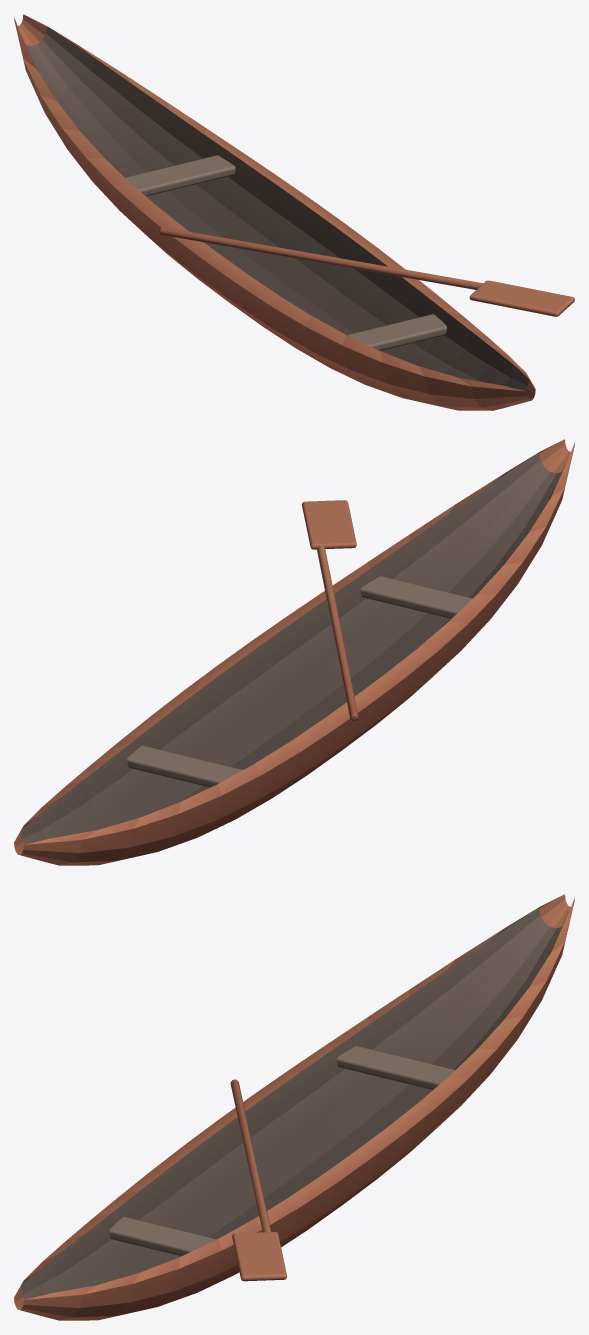
The model's file is canoe.glb.
3 views of the same model, one above another, from view 1: azimuth 30°, elevation 25°; view 2: azimuth 150°, elevation 25°; view 3: azimuth 330°, elevation 25° (orthographic). The views are drawn at different scales.
Visible parts, largest first — view 1: canoe; view 2: canoe; view 3: canoe.
Boxes of the visible parts, bbox=[...] form: canoe: bbox=[14, 14, 574, 410]; canoe: bbox=[14, 439, 574, 865]; canoe: bbox=[14, 894, 574, 1320].
Bounding box in the file's own units: 1.37 × 0.571 × 5.2.
1 material, 1 textured.
